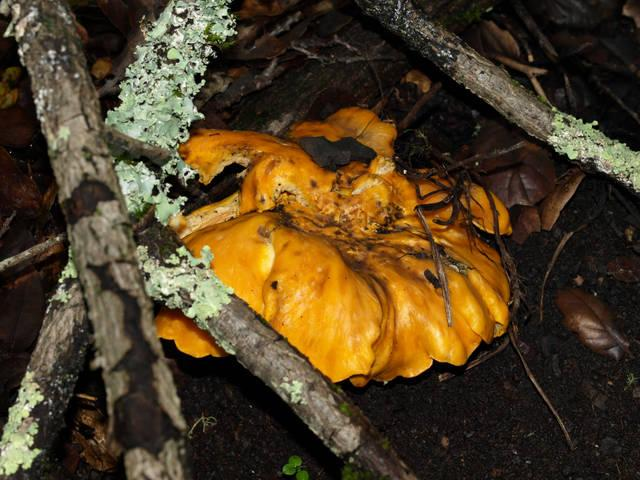Edible Mushroom: (148, 104, 514, 388)
